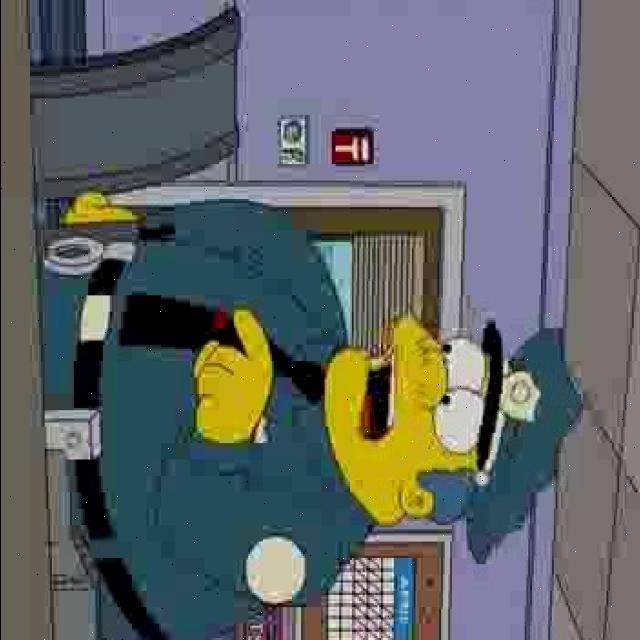Chief Wiggam: (322, 310, 580, 564)
